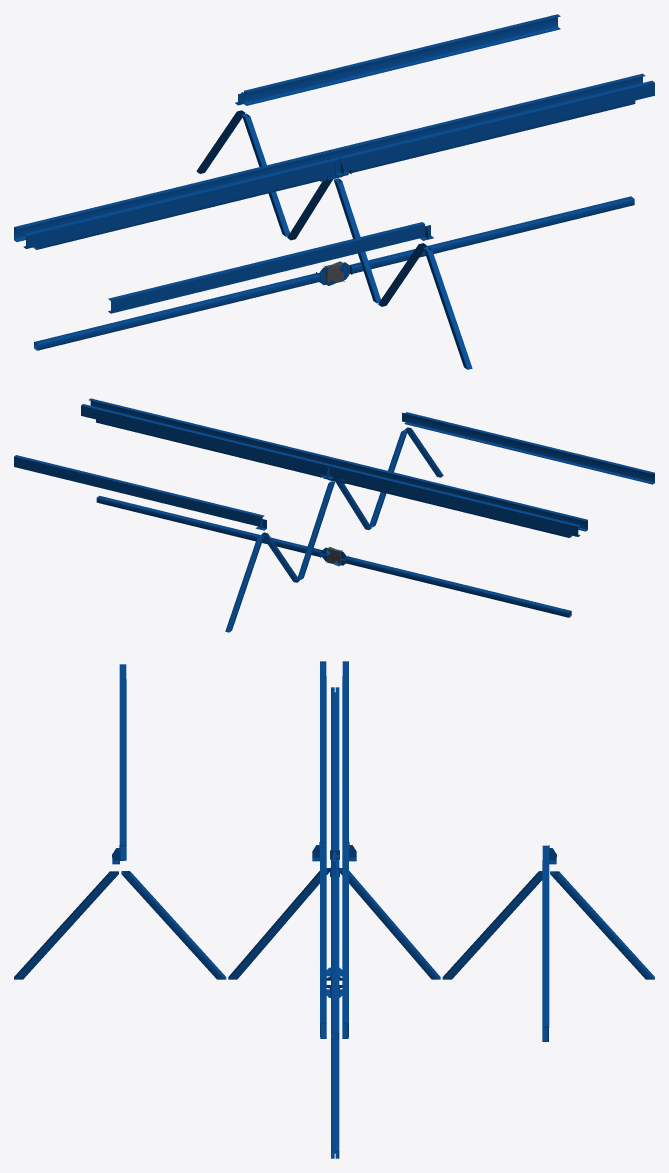
Rendered from GCC-AAV-13220-30.nwd(62).fbx.
The picture shows the model from 3 angles, top to bottom: view 1: azimuth 30°, elevation 25°; view 2: azimuth 150°, elevation 25°; view 3: azimuth 270°, elevation 25°; orthographic projection. The views are drawn at different scales.
Parts seen in each view (by area): view 1: Группа фасетов (×16); view 2: Группа фасетов (×16); view 3: Группа фасетов (×15).
Boxes of the visible parts, x1=… form: Группа фасетов (×16): x1=14, y1=14, x2=654, y2=369; Группа фасетов (×16): x1=14, y1=398, x2=654, y2=632; Группа фасетов (×15): x1=14, y1=661, x2=654, y2=1158.
Size of the model in its own units: 472 by 91.66 by 353.
